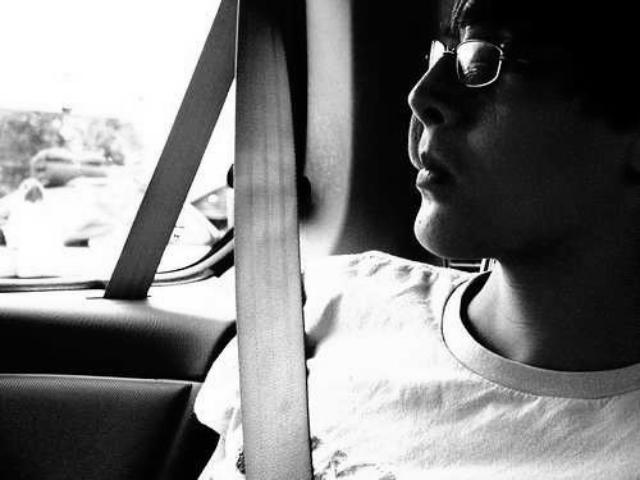Seatbelt: (230, 0, 318, 480)
